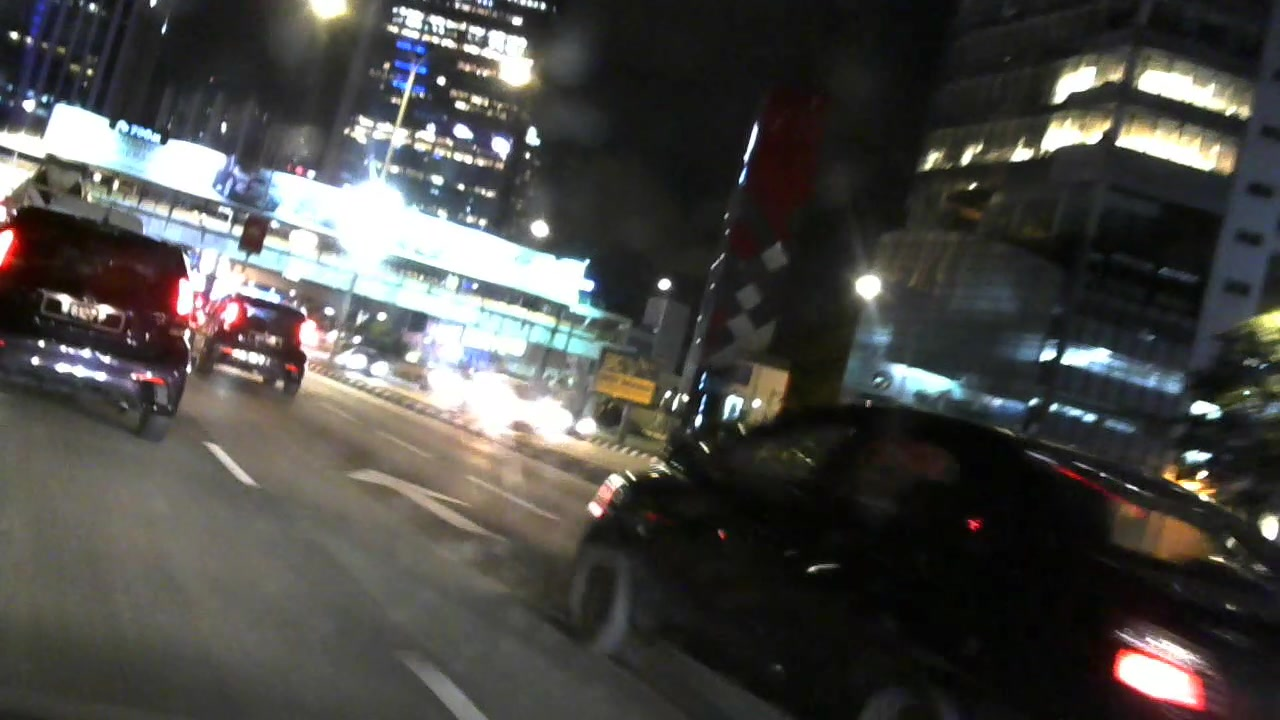Car: (558, 379, 1273, 710), (1, 201, 205, 447), (192, 283, 318, 409), (447, 362, 574, 432), (333, 344, 391, 378)
